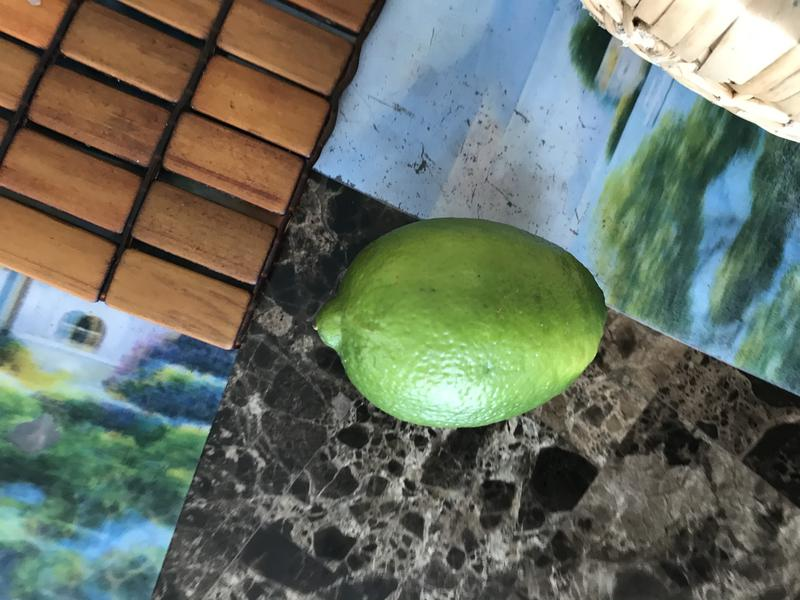lime: (300, 207, 631, 425)
